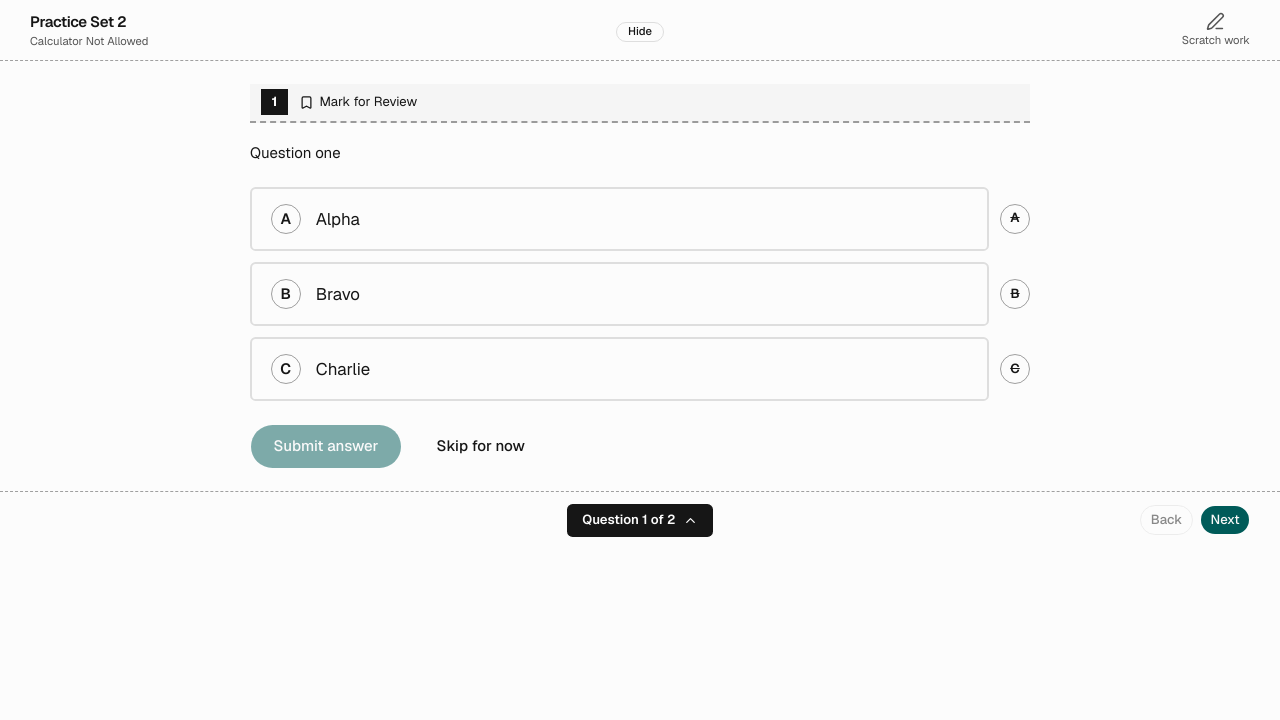
Test: SessionRunner — a request that fails › asks for a reload rather than a retry when the page is from before a deploy
This screenshot has width=1280, height=720.
Click the button "A Alpha".
click(338, 219)  # box [250,187,989,251]
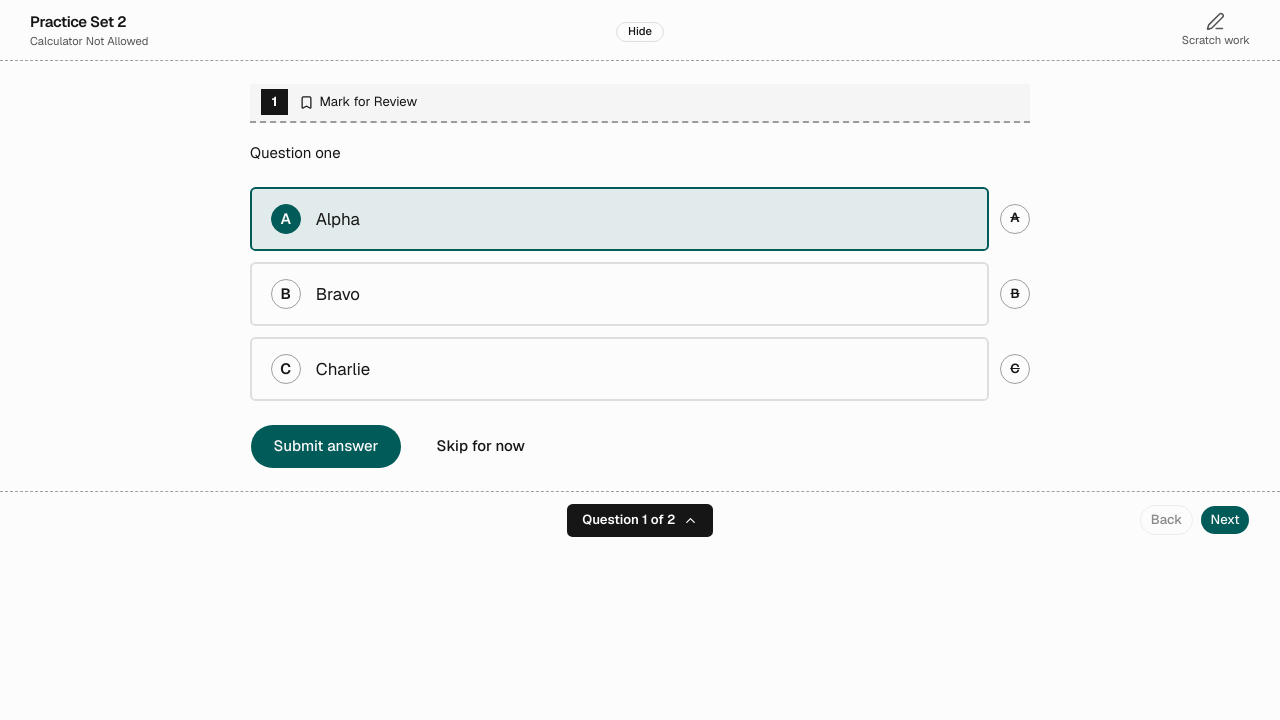
Click the button "Submit answer".
click(326, 446)  # box [250,424,402,469]
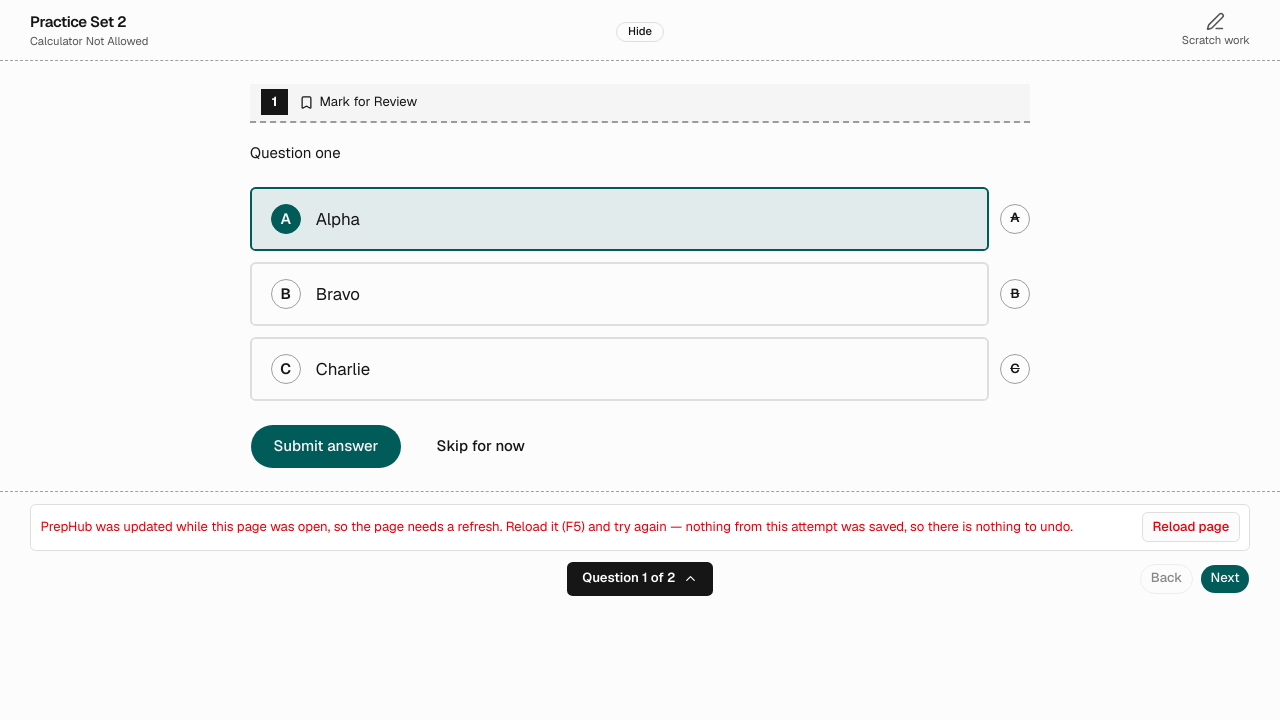
Check: the text "PrepHub was updated while this page was open, so the page needs a refresh. Reload it (F5) and try again — nothing from t" is shown, box [40,518,1073,535]
Check: the button "Reload page" is shown, box [1142,512,1240,542]
